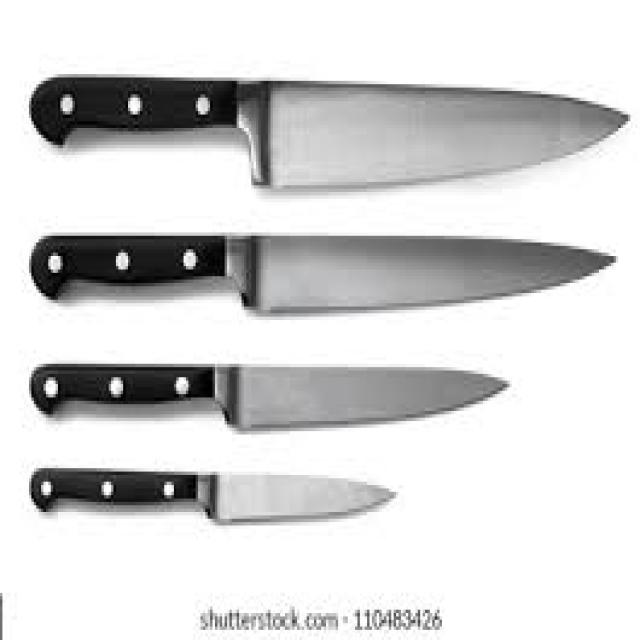Knife: (26, 71, 628, 185), (29, 229, 616, 313), (29, 360, 510, 428), (29, 465, 396, 522)
